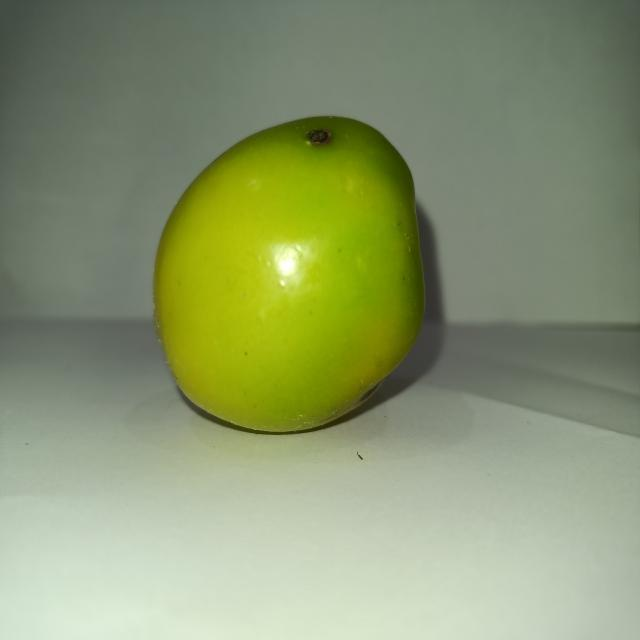Red: (151, 113, 426, 434)
